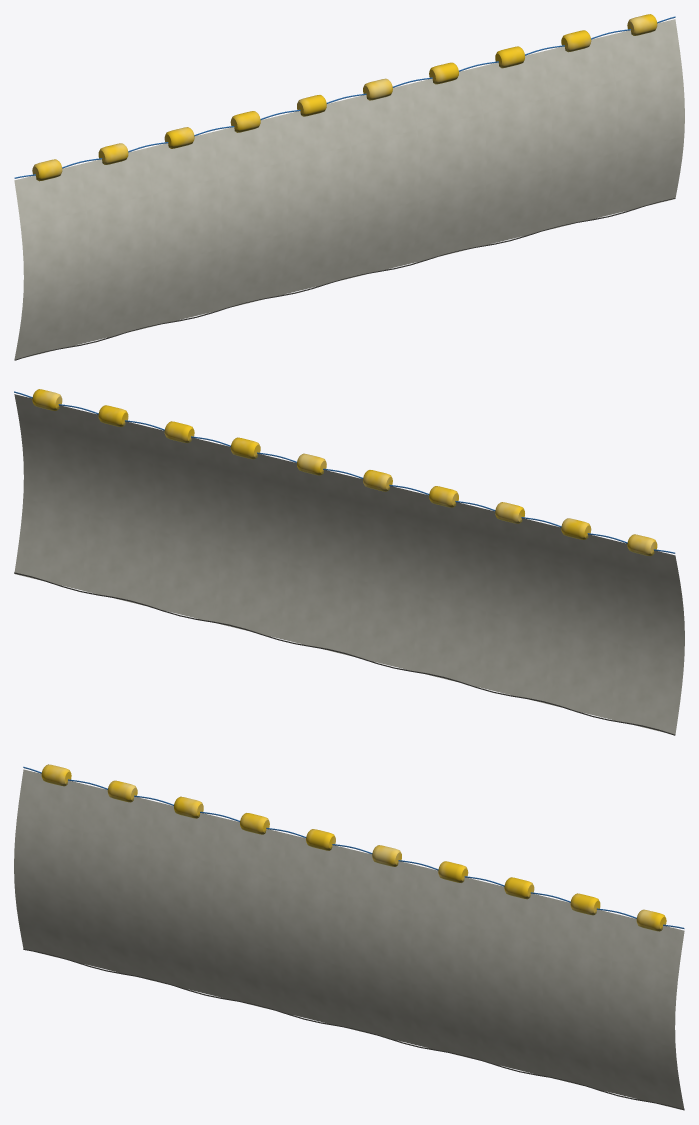
The model's file is SwimNet.gltf.
3 views of the same model, one above another, from view 1: azimuth 30°, elevation 25°; view 2: azimuth 150°, elevation 25°; view 3: azimuth 330°, elevation 25° (orthographic).
Visible parts, largest first — view 1: SwimNet; view 2: SwimNet; view 3: SwimNet.
Boxes of the visible parts, x1,y1,x2,y2 form: SwimNet: (14, 14, 684, 360); SwimNet: (14, 389, 684, 735); SwimNet: (14, 764, 684, 1110).
Bounding box in the file's own units: 10 × 2.78 × 0.37.
4 materials, 4 textured.
